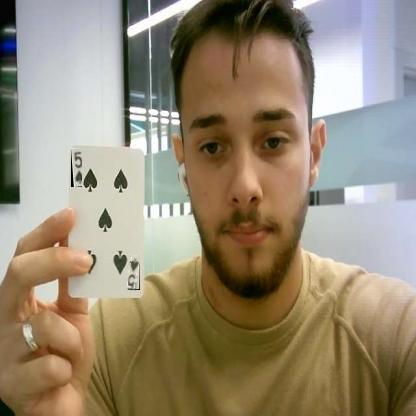5S: (71, 148, 82, 187), (128, 255, 140, 290)
